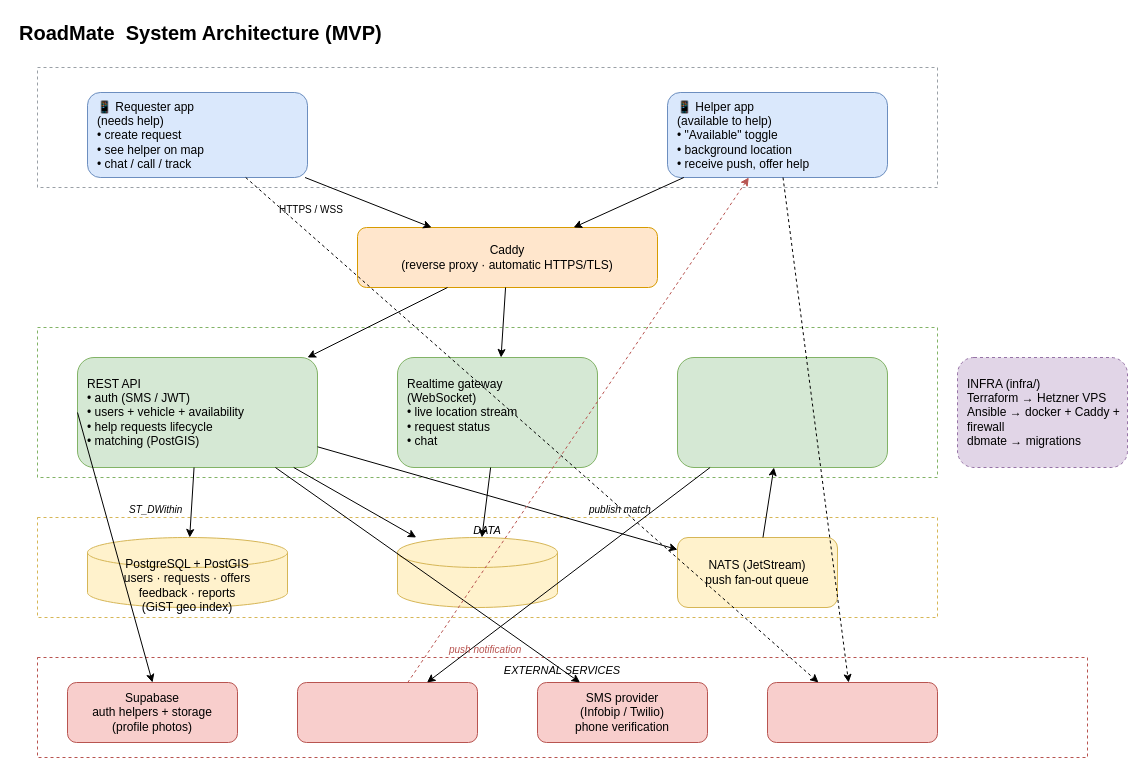
This 1145x775 diagram has some shape labels left out. The shapes that lost their labels are listed below. From the top down, each one's box as (x1, y1, x2, y2) in pixels, then its label:
(36, 66, 938, 188): CLIENTS (Expo / React Native)
(36, 326, 938, 478): BACKEND — @roadmate/backend (Elysia · Bun · TypeScript)
(676, 356, 888, 468): Push worker • consumes NATS • builds Expo push • fan-out to nearby helpers
(396, 536, 558, 608): Redis live location cache rate limiting
(296, 682, 478, 742): Expo Push → APNs / FCM
(766, 682, 938, 742): Map tiles (MapLibre / Mapbox)
